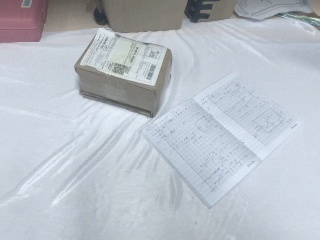box: (74, 30, 172, 117), (94, 1, 191, 35), (184, 1, 240, 23)
